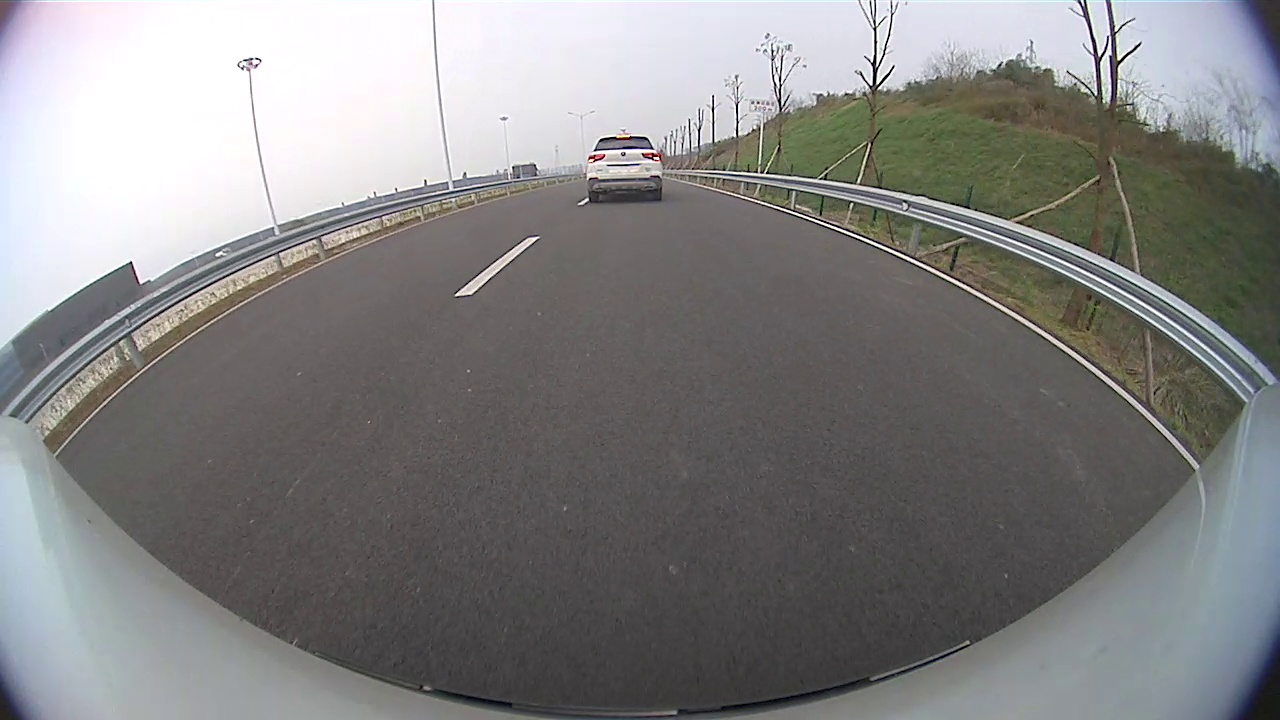car: (583, 132, 668, 207)
